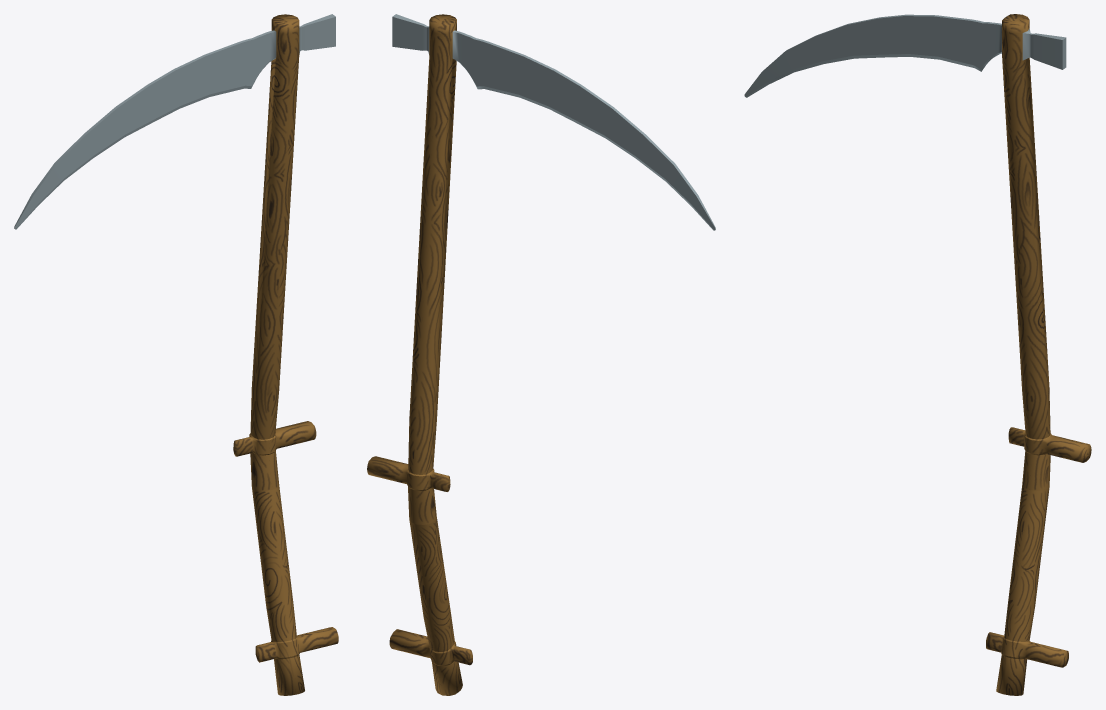
The model's file is scytheV1.fbx.
3 views of the same model, side by side, from view 1: azimuth 30°, elevation 25°; view 2: azimuth 150°, elevation 25°; view 3: azimuth 330°, elevation 25° (orthographic).
Parts seen in each view (by area): view 1: scytheV1; view 2: scytheV1; view 3: scytheV1.
Part boxes in pixels (bbox=[...]): scytheV1: bbox=[14, 14, 338, 695]; scytheV1: bbox=[367, 14, 715, 695]; scytheV1: bbox=[744, 14, 1091, 695].
Size of the model in its own units: 0.95 by 1.89 by 0.2147.
Materials: 2 (2 with a texture image).
